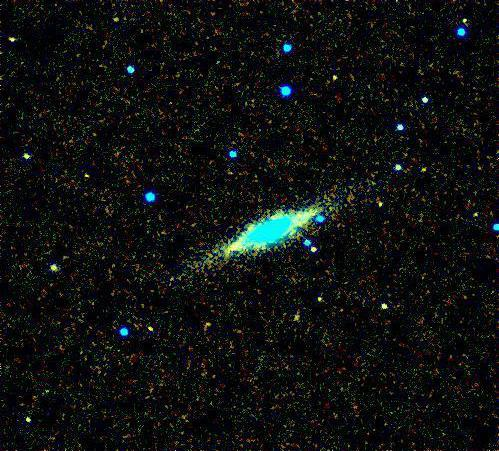star: (298, 233, 328, 263)
